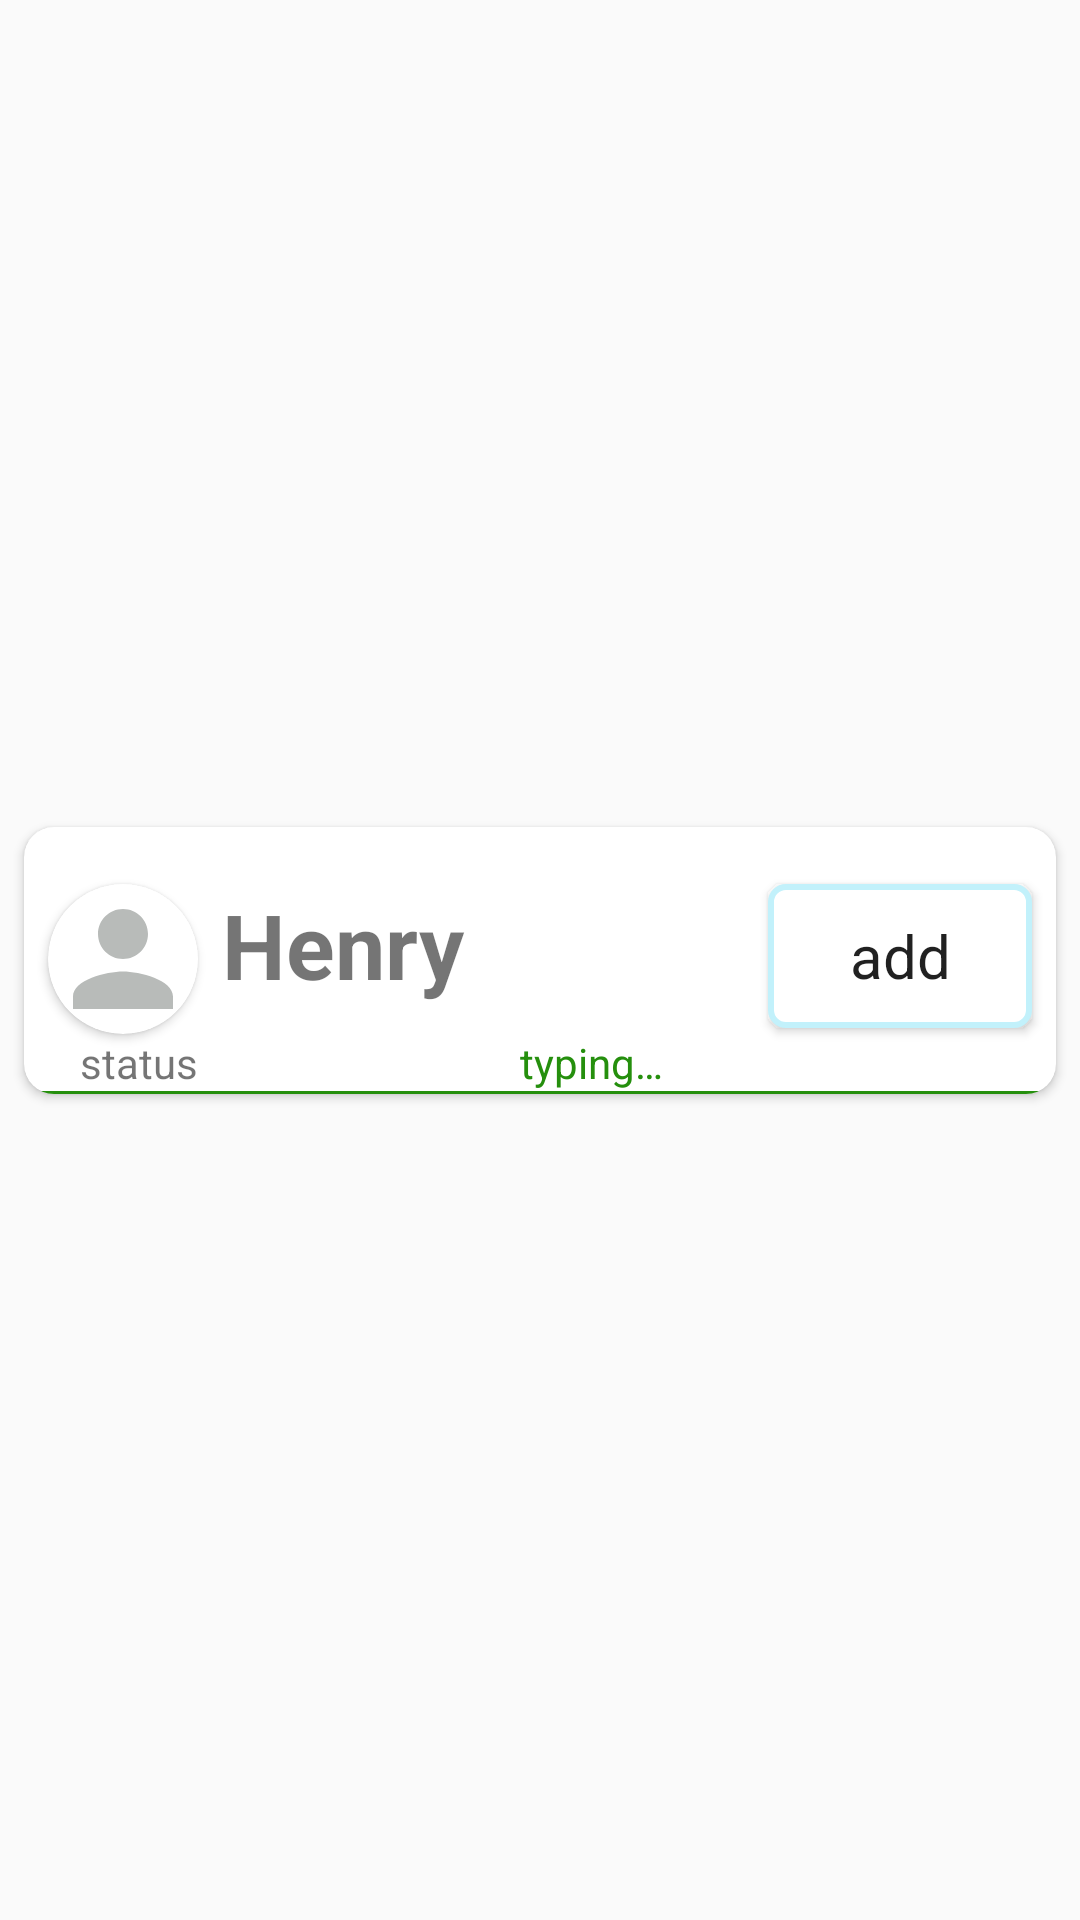

Screen size 1080px x 1920px. Icon name, then its center in pixels as (x=x, y=y):
person: (x=119, y=971)
